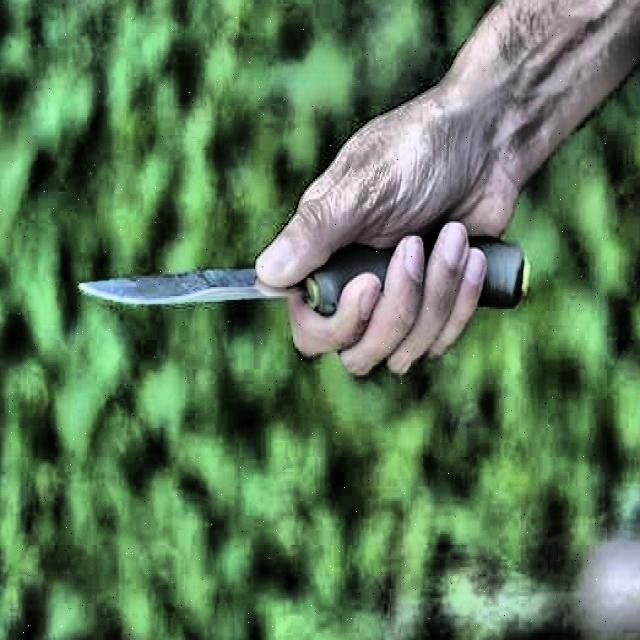knife: (82, 236, 530, 306)
